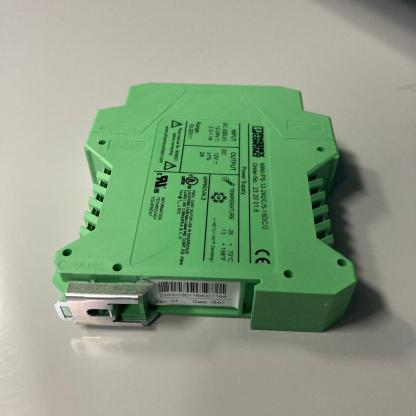SP0000011: (23, 40, 410, 382)
